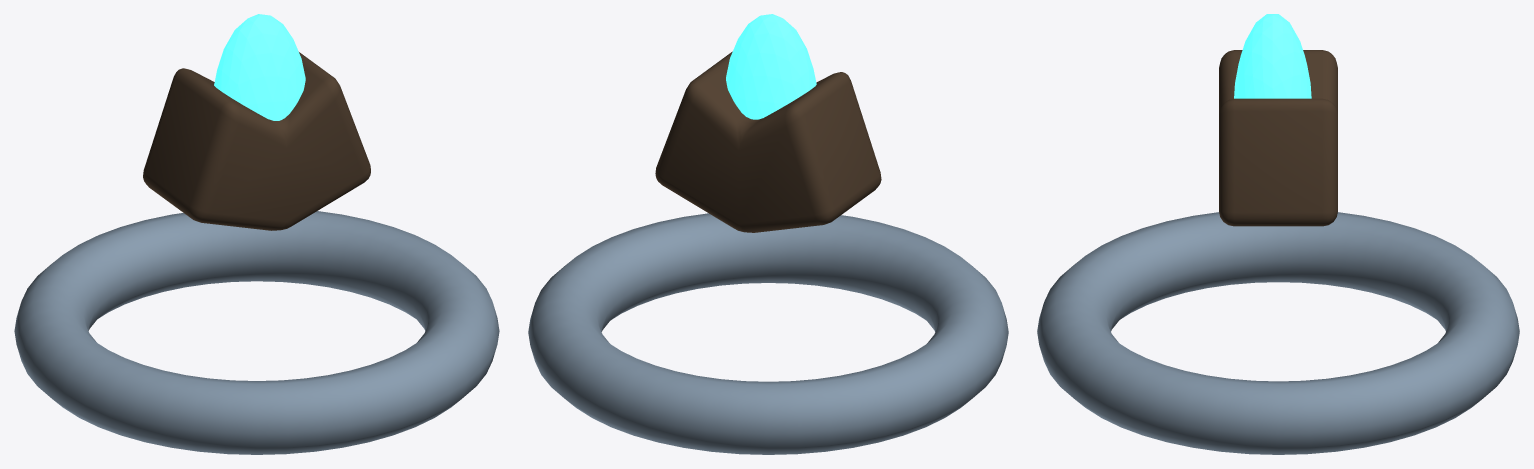
File: ring_v8.glb
3 views of the same model, side by side, from view 1: azimuth 30°, elevation 25°; view 2: azimuth 150°, elevation 25°; view 3: azimuth 270°, elevation 25° (orthographic).
Visible parts, largest first — view 1: RING_SHANK_PRIMARY, CLAW_SETTING_SECONDARY, MARQUISE_STONE_EMISSIVE; view 2: RING_SHANK_PRIMARY, CLAW_SETTING_SECONDARY, MARQUISE_STONE_EMISSIVE; view 3: RING_SHANK_PRIMARY, CLAW_SETTING_SECONDARY, MARQUISE_STONE_EMISSIVE.
Boxes of the visible parts, x1,y1,x2,y2 form: RING_SHANK_PRIMARY: [14, 211, 499, 454]; CLAW_SETTING_SECONDARY: [143, 52, 370, 230]; MARQUISE_STONE_EMISSIVE: [214, 14, 305, 120]; RING_SHANK_PRIMARY: [528, 213, 1008, 454]; CLAW_SETTING_SECONDARY: [655, 51, 881, 232]; MARQUISE_STONE_EMISSIVE: [726, 14, 816, 119]; RING_SHANK_PRIMARY: [1037, 212, 1519, 454]; CLAW_SETTING_SECONDARY: [1219, 50, 1337, 226]; MARQUISE_STONE_EMISSIVE: [1234, 14, 1311, 98].
Size of the model in its own units: 1.7 by 1.36 by 1.7.
